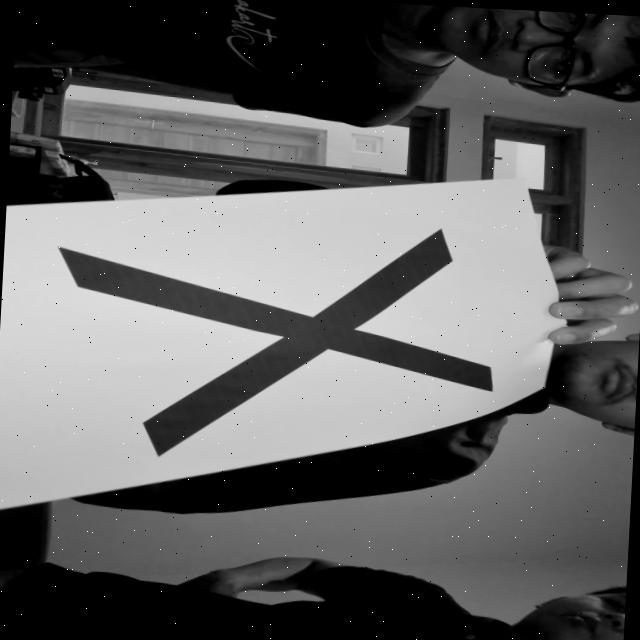x: (41, 192, 512, 482)
